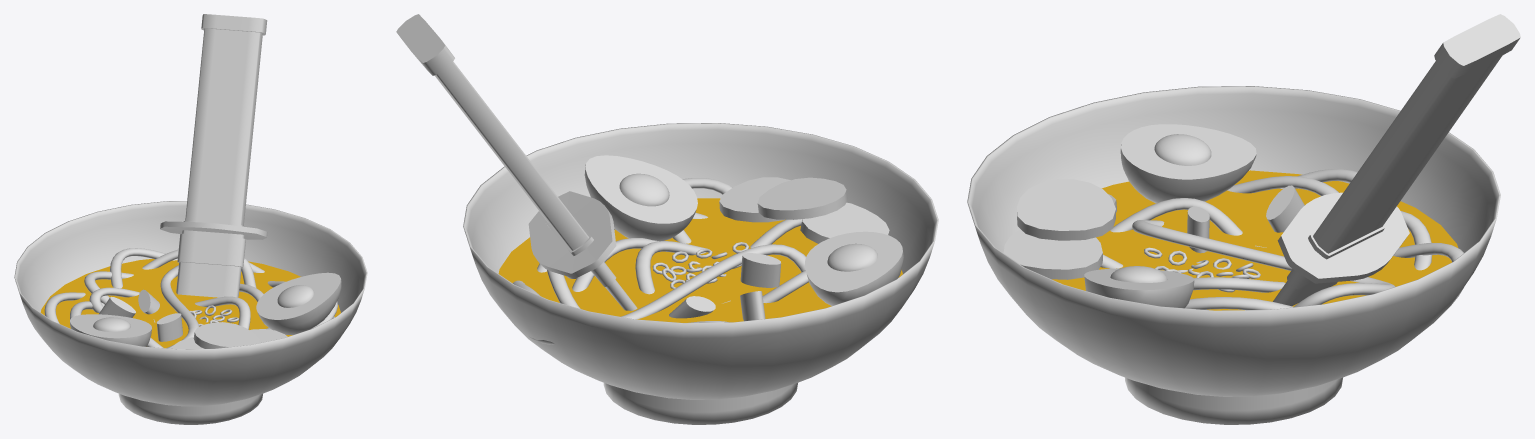
The model's file is m_ramen.fbx.
The picture shows the model from 3 angles, left to right: view 1: azimuth 30°, elevation 25°; view 2: azimuth 150°, elevation 25°; view 3: azimuth 270°, elevation 25°; orthographic projection. The views are drawn at different scales.
Parts seen in each view (by area): view 1: ramen1, ramen1_miso; view 2: ramen1, ramen1_miso; view 3: ramen1, ramen1_miso.
Part boxes in pixels (<box>): ramen1: <box>14,14,367,424</box>; ramen1_miso: <box>40,258,340,348</box>; ramen1: <box>396,14,938,424</box>; ramen1_miso: <box>498,198,902,322</box>; ramen1: <box>967,14,1520,424</box>; ramen1_miso: <box>1052,170,1458,310</box>.
Size of the model in its own units: 29.78 by 27.16 by 30.95.
